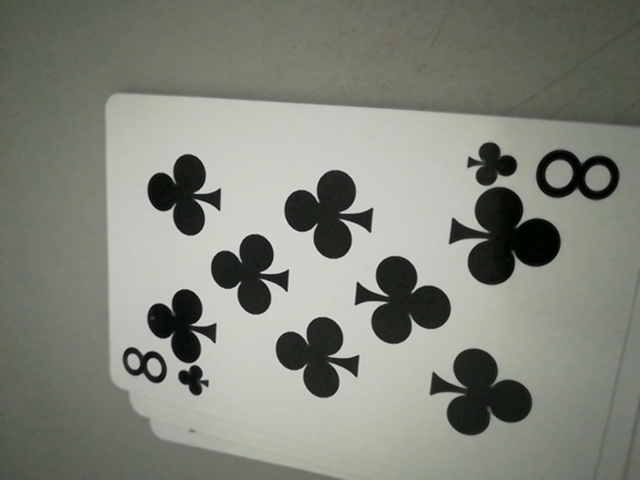mh 8: (465, 135, 620, 199), (119, 344, 208, 404)
